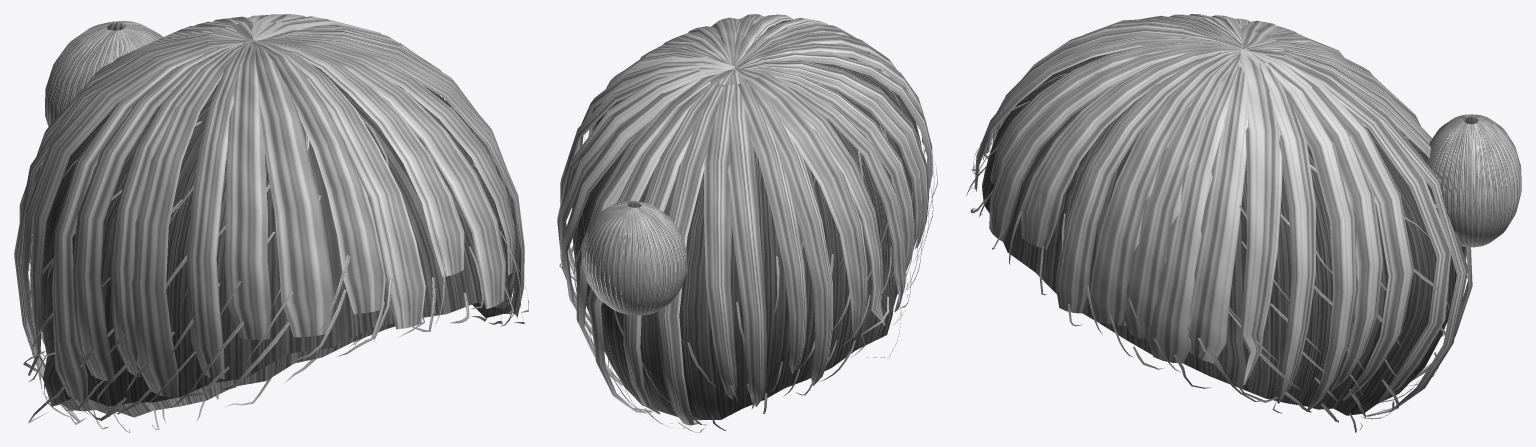
Rendered from unified_f_bun.glb.
The picture shows the model from 3 angles, left to right: view 1: azimuth 30°, elevation 25°; view 2: azimuth 150°, elevation 25°; view 3: azimuth 270°, elevation 25°; orthographic projection. The views are drawn at different scales.
Parts seen in each view (by area): view 1: Hair_directional_locks, Hair_scalp, Hair_layered_strands, Hair_coiled_bun; view 2: Hair_directional_locks, Hair_scalp, Hair_coiled_bun, Hair_layered_strands; view 3: Hair_directional_locks, Hair_scalp, Hair_coiled_bun, Hair_layered_strands.
Boxes of the visible parts, <box> form: Hair_directional_locks: <box>14,14,524,422</box>; Hair_scalp: <box>41,63,511,417</box>; Hair_layered_strands: <box>23,66,528,432</box>; Hair_coiled_bun: <box>45,21,163,126</box>; Hair_directional_locks: <box>557,14,932,425</box>; Hair_scalp: <box>572,28,921,420</box>; Hair_coiled_bun: <box>581,200,687,315</box>; Hair_layered_strands: <box>559,23,937,432</box>; Hair_directional_locks: <box>974,14,1472,416</box>; Hair_scalp: <box>982,48,1456,415</box>; Hair_coiled_bun: <box>1424,114,1521,247</box>; Hair_layered_strands: <box>966,73,1468,432</box>.
Size of the model in its own units: 0.1066 by 0.1027 by 0.1374.
2 materials, 2 textured.
